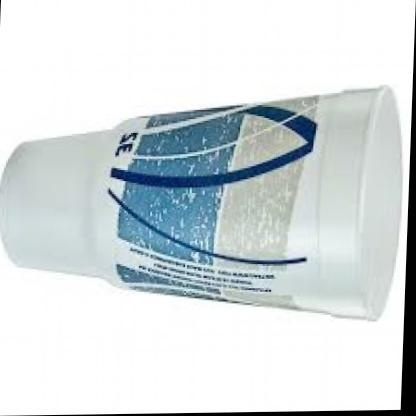trash: (0, 86, 401, 319)
